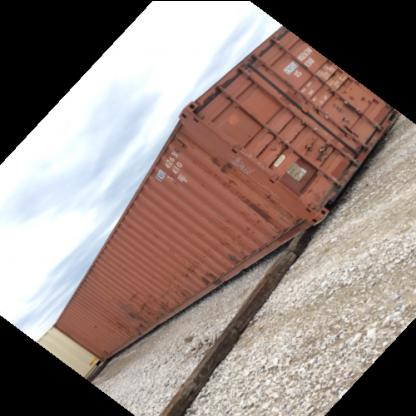Damage: (242, 192, 274, 235), (328, 130, 361, 168), (115, 309, 150, 344), (184, 268, 226, 294), (142, 293, 169, 322), (207, 154, 233, 184), (221, 251, 240, 267)
